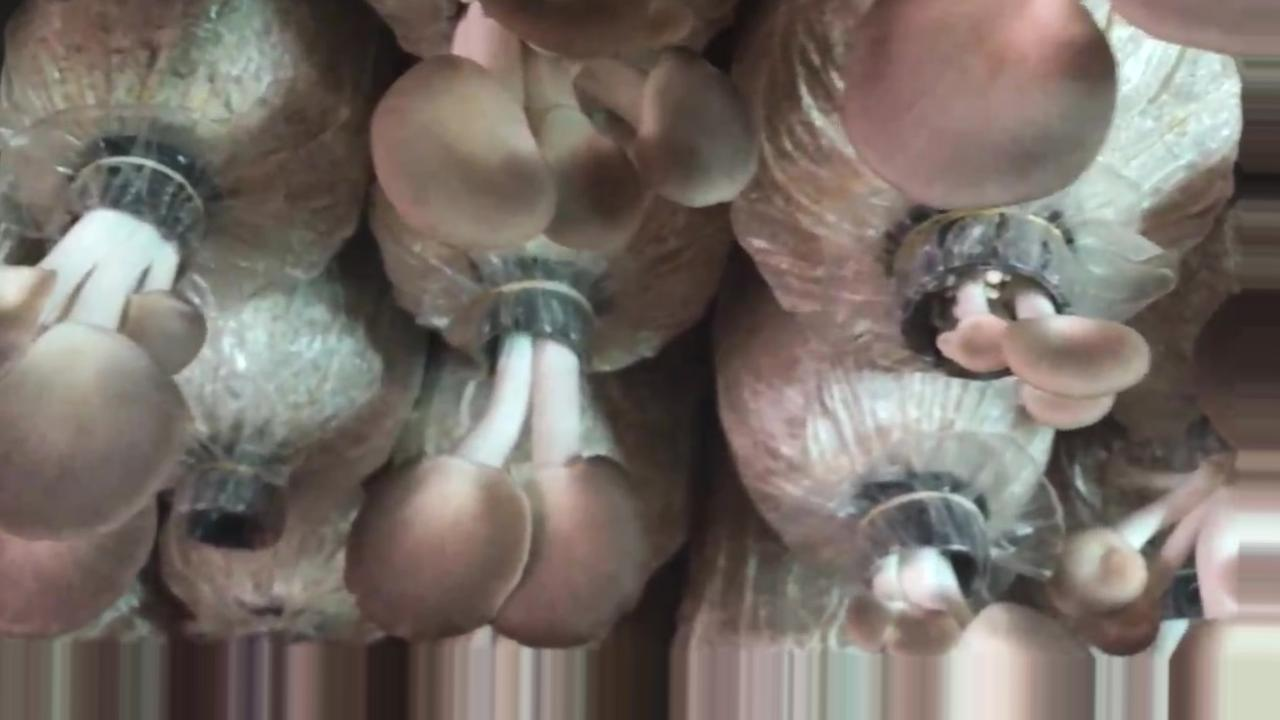nam: (348, 282, 641, 652), (1, 160, 211, 639), (371, 1, 753, 249), (848, 1, 1120, 212), (846, 491, 1096, 720), (889, 212, 1150, 431)
